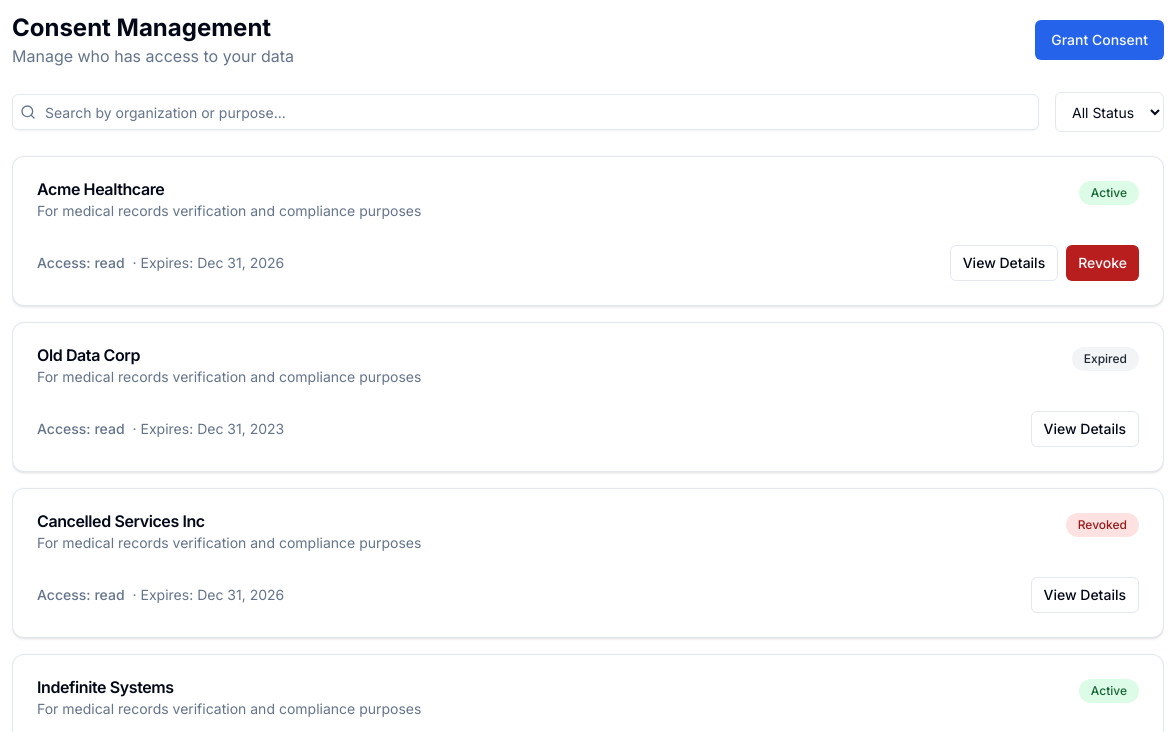
Scenario: ConsentList › Search & Filter › filters by status (active/expired/revoked)
Note: Filter by active
Select "Active" in the dropdown at (1110, 112), box [1055,92,1164,132]
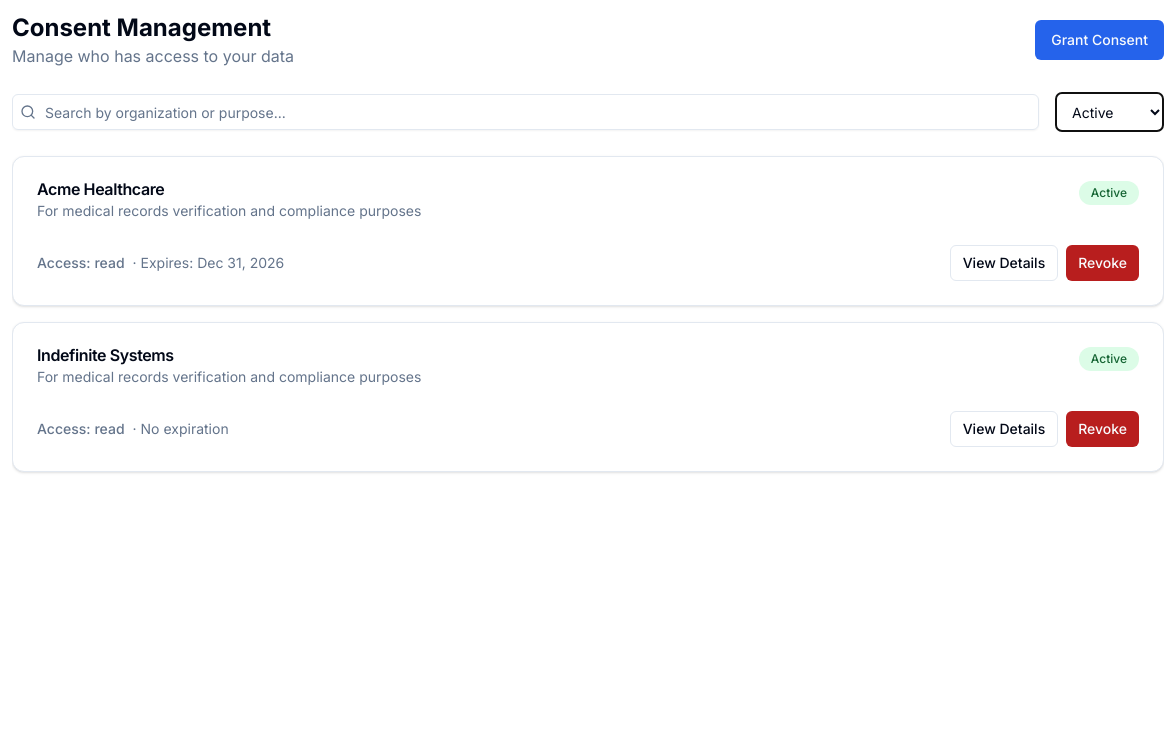
Expected: the heading "Acme Healthcare" is shown, [37,179,164,199]
Expected: the heading "Old Data Corp" is gone
Expected: the heading "Cancelled Services Inc" is gone
